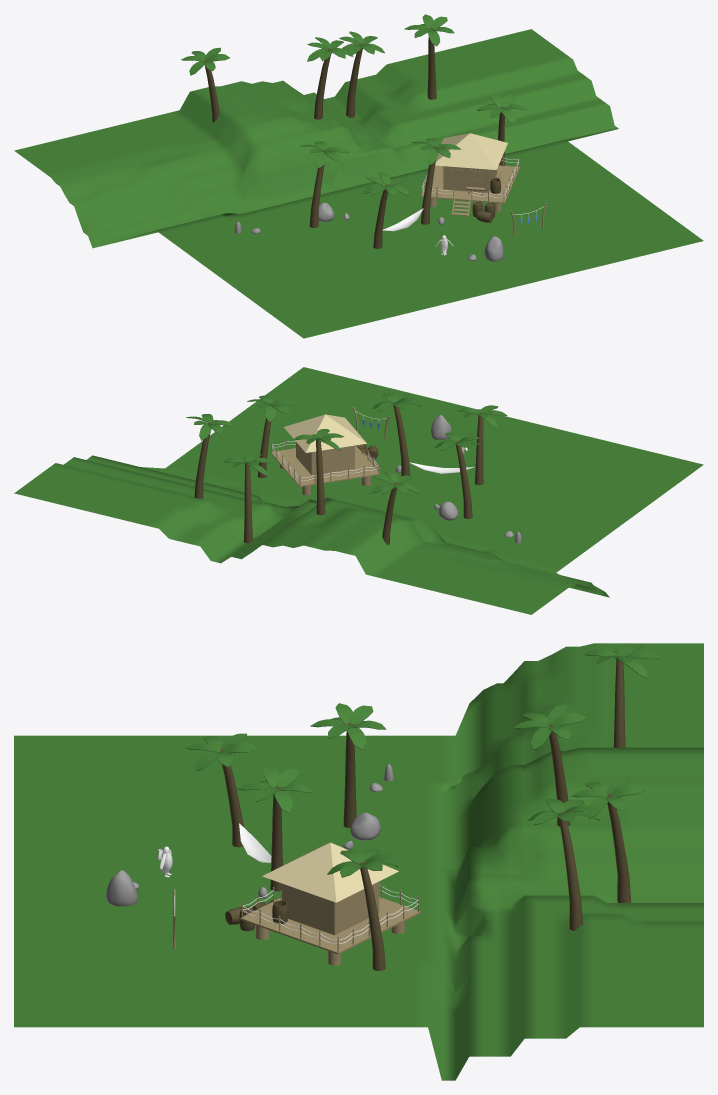
File: PlayerHome3DSketch.fbx
The picture shows the model from 3 angles, top to bottom: view 1: azimuth 30°, elevation 25°; view 2: azimuth 150°, elevation 25°; view 3: azimuth 270°, elevation 25°; orthographic projection. The views are drawn at different scales.
Parts seen in each view (by area): view 1: Terrain, pCone1, pCube2, pCube1, Trunk; view 2: Terrain, Trunk (×7), pCone1, pCube2, pCube1; view 3: Terrain, Trunk (×8), pCone1, pCube2, pCube1, MainRock2, MainRock1.
Boxes of the visible parts, <box> form: Terrain: <box>14,29,703,338</box>; pCone1: <box>435,133,507,169</box>; pCube2: <box>420,165,519,203</box>; pCube1: <box>443,166,496,192</box>; Trunk: <box>346,43,363,117</box>; Terrain: <box>14,367,703,614</box>; Trunk (×7): <box>194,402,483,545</box>; pCone1: <box>284,414,366,452</box>; pCube2: <box>270,445,380,486</box>; pCube1: <box>296,442,354,475</box>; Terrain: <box>14,643,703,1080</box>; Trunk (×8): <box>220,655,631,970</box>; pCone1: <box>262,842,398,902</box>; pCube2: <box>240,897,420,954</box>; pCube1: <box>282,881,379,935</box>; MainRock2: <box>106,870,137,906</box>; MainRock1: <box>350,812,380,840</box>.
Size of the model in its own units: 129 by 28.7 by 100.
